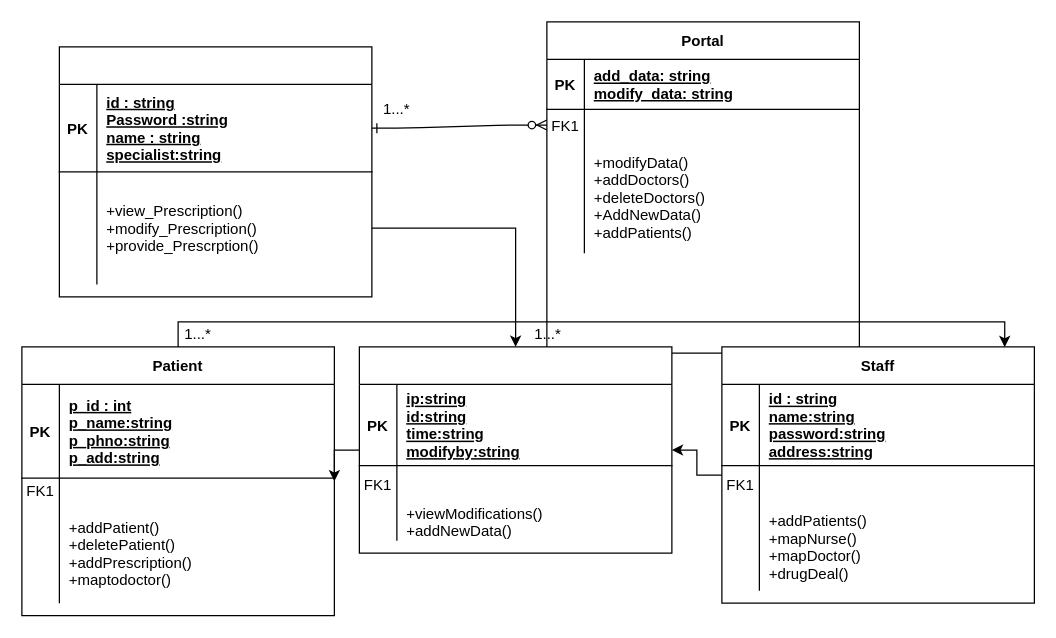
Image size: 1056x638. Some labels were removed from this diagram. Here are the shapes that lost their labels. From the top down, the box of each, then its label:
(58, 46, 372, 297): doctors
(358, 346, 672, 553): Modified
